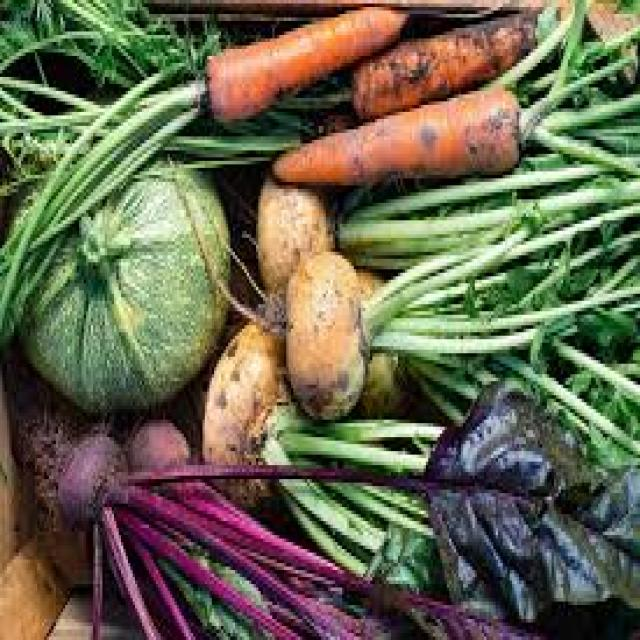organic waste: (28, 406, 638, 636), (363, 182, 638, 462), (0, 59, 205, 340), (0, 144, 219, 402), (423, 374, 638, 619), (335, 126, 638, 273), (263, 409, 444, 595), (0, 70, 303, 161), (202, 3, 408, 119), (270, 80, 519, 175), (347, 10, 533, 119), (0, 0, 216, 87), (200, 311, 289, 511), (521, 28, 638, 168), (516, 14, 638, 140), (284, 248, 361, 413), (28, 406, 126, 521), (254, 168, 335, 304), (349, 266, 407, 409), (121, 412, 191, 482)
